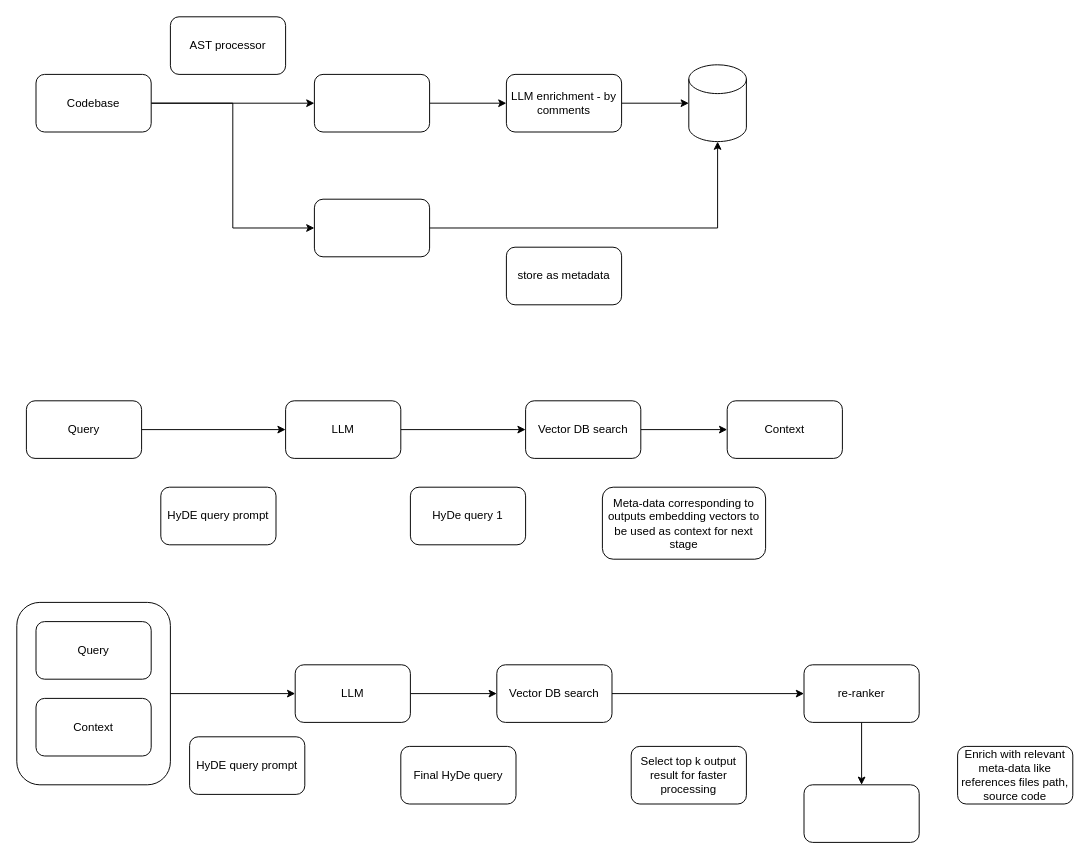
Some shapes in this 1090 by 859 pixel diagram are drawn without their labels. Each missing label, with the centre of its shape:
Chat LLM: the point at 861,813
code-base wid e references: the point at 371,227
methods, classes, constructors ...: the point at 371,102
